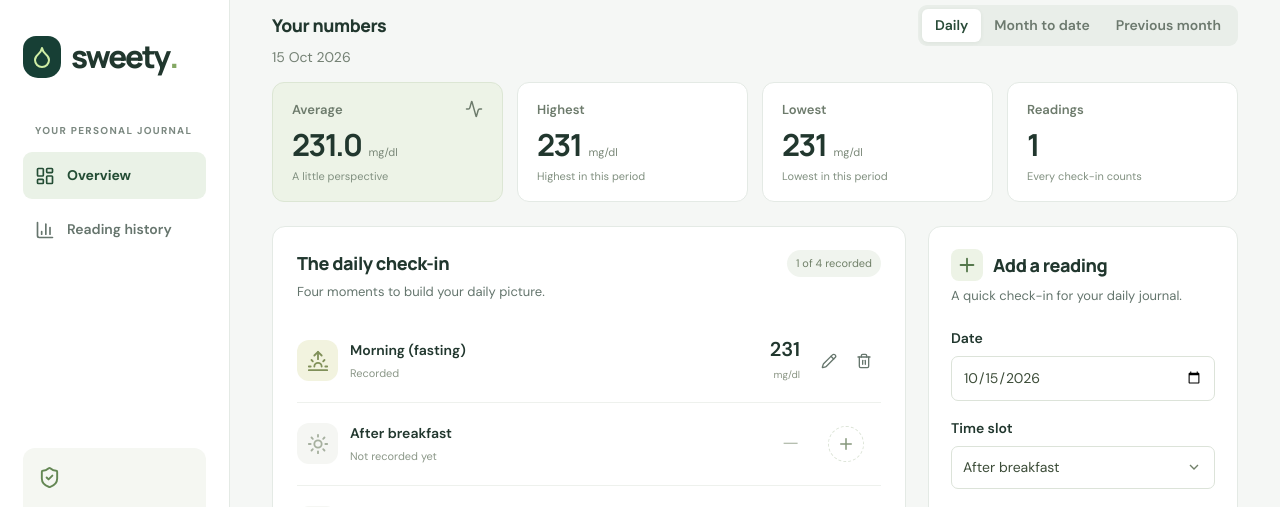
Test: retries a failed delete only after reopening and confirming the deletion
The image size is (1280, 507).
(page scrolled)
Click the button named "Delete Morning (fasting) on 15 Oct 2026".
click(864, 360)  # box [847,344,881,378]
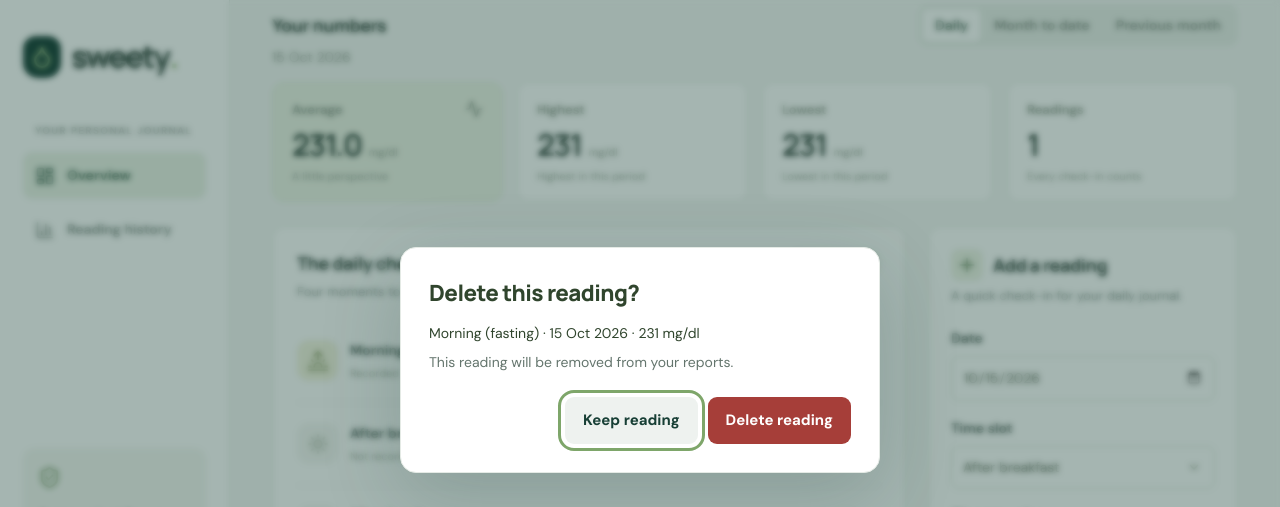
Click the button "Delete reading".
click(779, 420)  # box [708,397,851,444]
(page scrolled)
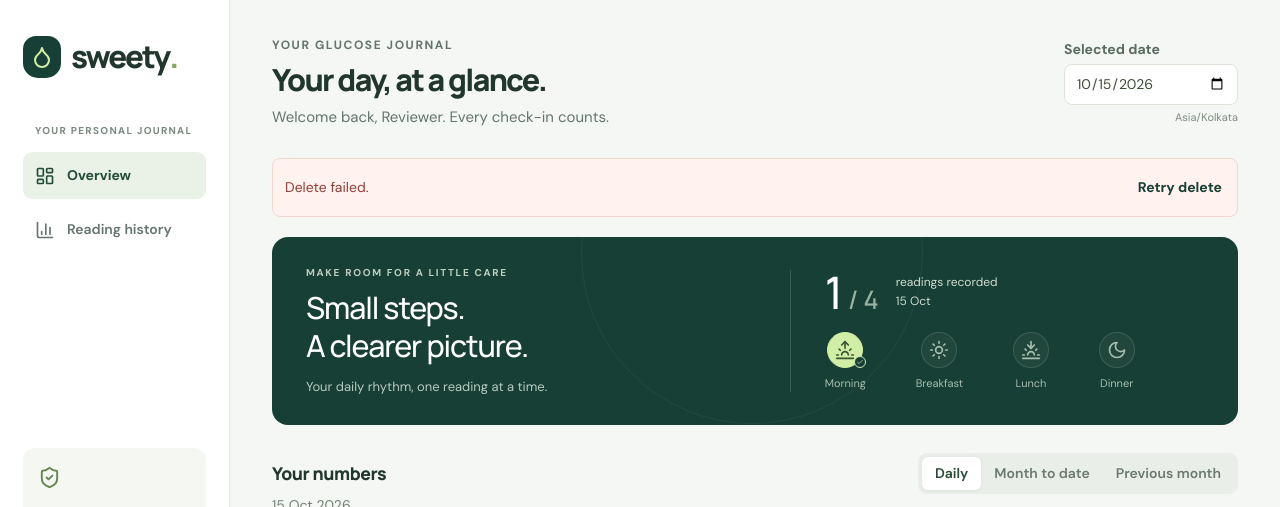
Expected: the text "Reading deleted." is not shown
Result: the message shows "Delete failed." at [285,178,368,196]
Click the button "Retry delete".
click(1180, 188)  # box [1135,171,1225,204]
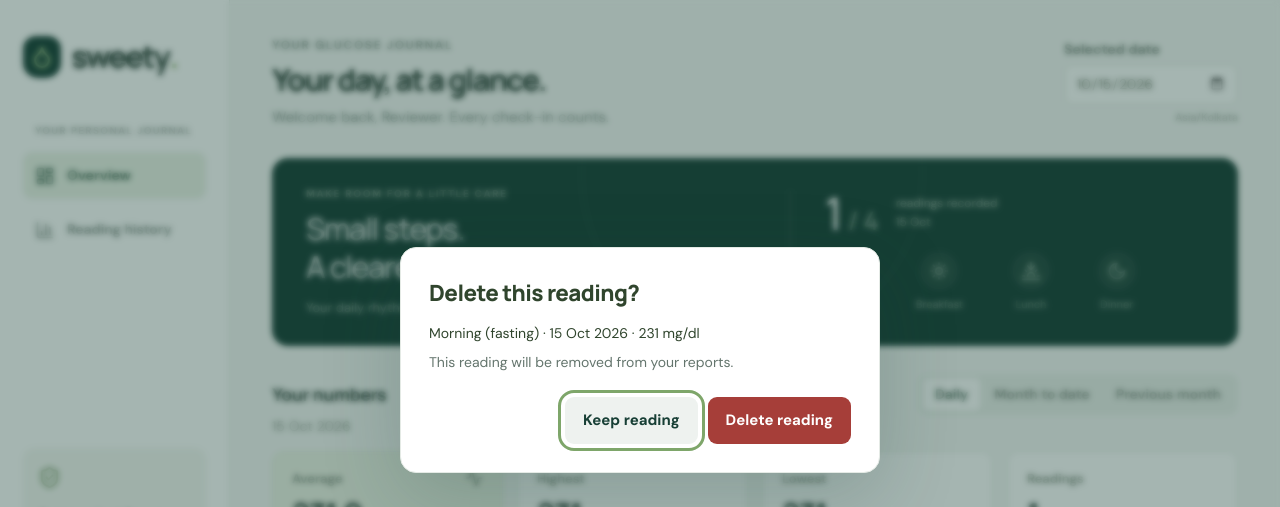
Result: the dialog is shown at [400,247,880,472]
Click the button "Delete reading".
click(779, 420)  # box [708,397,851,444]
(page scrolled)
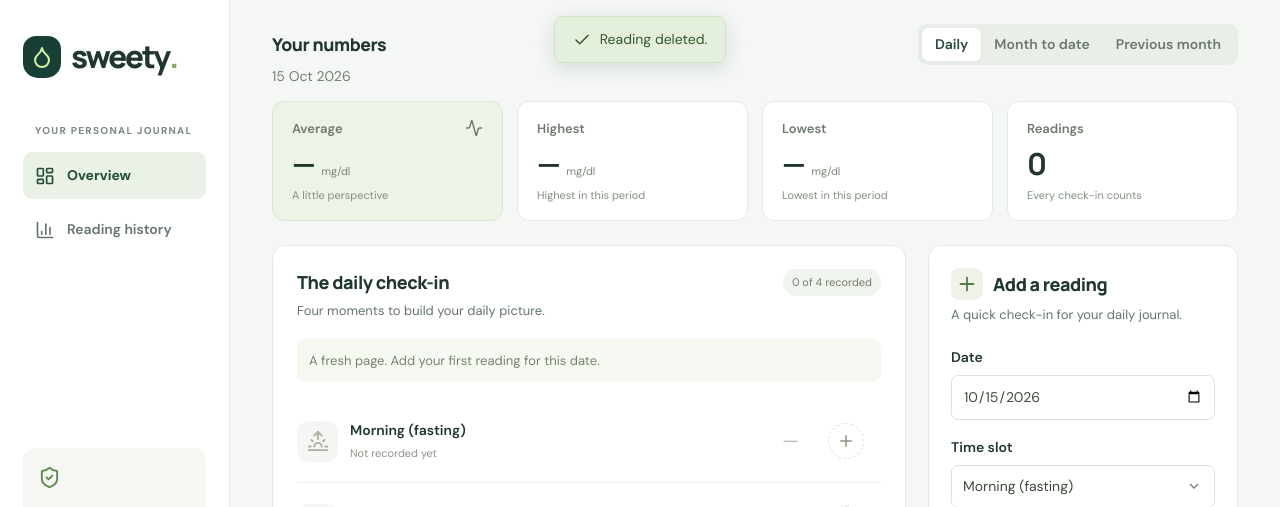
Result: the text "Reading deleted." is shown at [600,29,707,50]
Result: the text "A fresh page. Add your first reading for this date." is shown at [297,338,881,382]
